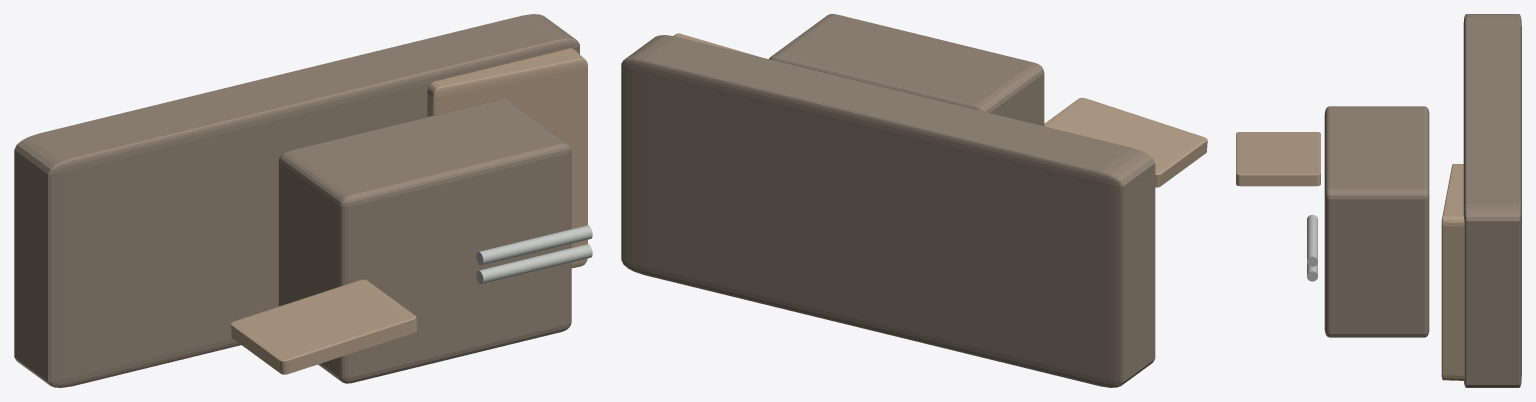
File: d-u11-dominion-recon-vehicle-lod2.glb
The picture shows the model from 3 angles, left to right: view 1: azimuth 30°, elevation 25°; view 2: azimuth 150°, elevation 25°; view 3: azimuth 270°, elevation 25°; orthographic projection. The views are drawn at different scales.
Visible parts, largest first — view 1: chassis_lower, recon_cabin, recon_sensor_array, chassis_nose, recon_gun_barrel_1, recon_gun_barrel_0; view 2: chassis_lower, recon_cabin, recon_sensor_array; view 3: recon_cabin, chassis_lower, chassis_nose, recon_sensor_array, recon_gun_barrel_1.
Part boxes in pixels (x1,y1,x2,y2): chassis_lower: [14, 14, 579, 387]; recon_cabin: [278, 99, 571, 383]; recon_sensor_array: [230, 279, 417, 374]; chassis_nose: [427, 48, 587, 268]; recon_gun_barrel_1: [476, 225, 592, 265]; recon_gun_barrel_0: [476, 244, 592, 284]; chassis_lower: [621, 35, 1155, 387]; recon_cabin: [769, 14, 1044, 126]; recon_sensor_array: [1044, 97, 1207, 187]; recon_cabin: [1324, 106, 1429, 337]; chassis_lower: [1463, 14, 1521, 387]; chassis_nose: [1441, 163, 1464, 380]; recon_sensor_array: [1236, 132, 1320, 186]; recon_gun_barrel_1: [1307, 214, 1317, 266].
Size of what is drawn, in the model's own units: 4.75 by 1.95 by 2.81.
